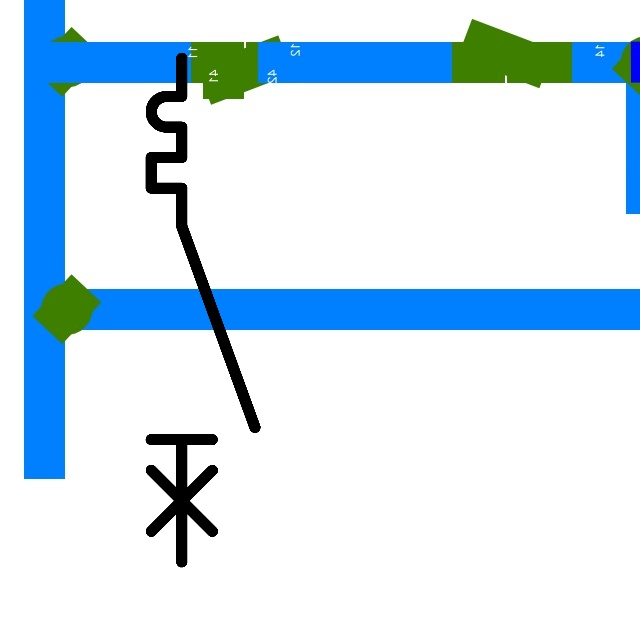interruptor_termomagnetico: (138, 45, 268, 575)
